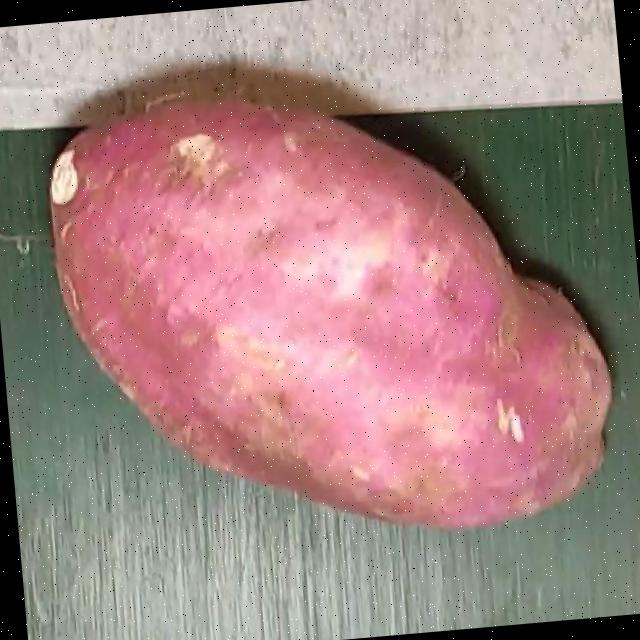Sweet Potato: (43, 97, 612, 532)
